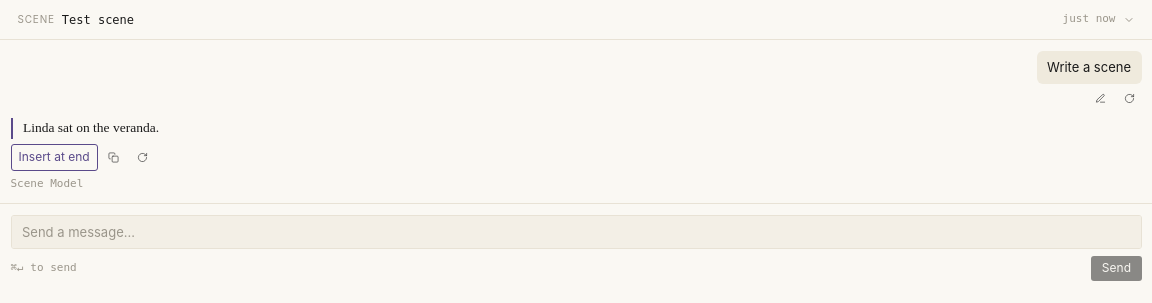
Test: SceneTab — [10] useMessageActions parity › user Edit button on a scene user row shows inline textarea
Expected: the list item with test id "assistant-a1" is shown, [10, 118, 1142, 193]
Click the button named "edit": (1100, 98) [1088, 89, 1113, 107]
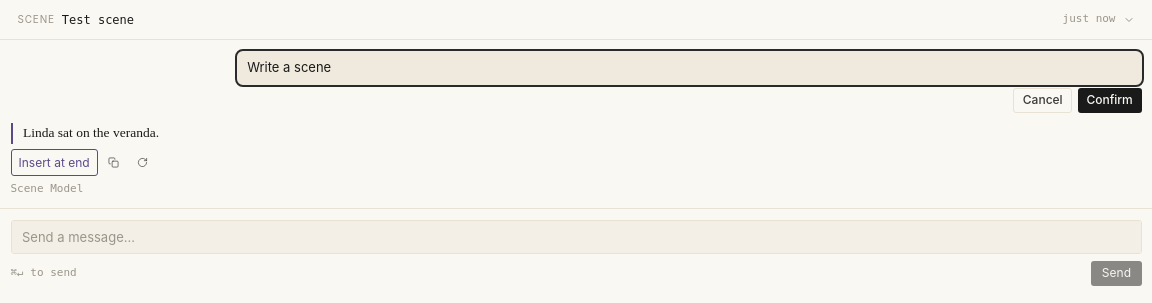
Now the text box named "edit message" holds "Write a scene", box [237, 50, 1142, 84]
